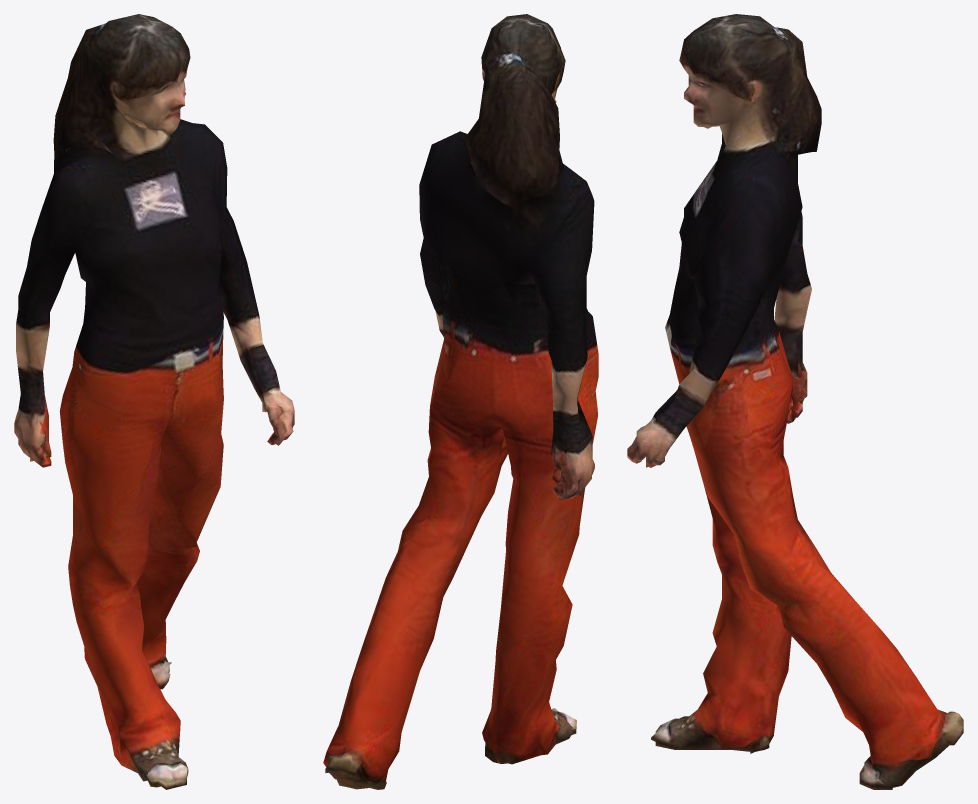
File: casual10.obj
3 renders of one model, left to right at view 1: azimuth 30°, elevation 25°; view 2: azimuth 150°, elevation 25°; view 3: azimuth 270°, elevation 25°, orthographic.
Visible parts, largest first — view 1: lwpg0007_; view 2: lwpg0007_; view 3: lwpg0007_.
Boxes of the visible parts, x1,y1,x2,y2 form: lwpg0007_: [14, 14, 294, 789]; lwpg0007_: [323, 14, 598, 789]; lwpg0007_: [627, 14, 963, 789].
Size of the model in its own units: 0.48 by 1.69 by 0.71.
1 material, 1 textured.
